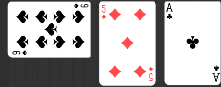9C: (73, 3, 90, 10), (12, 50, 29, 57)
AC: (212, 64, 221, 83)
